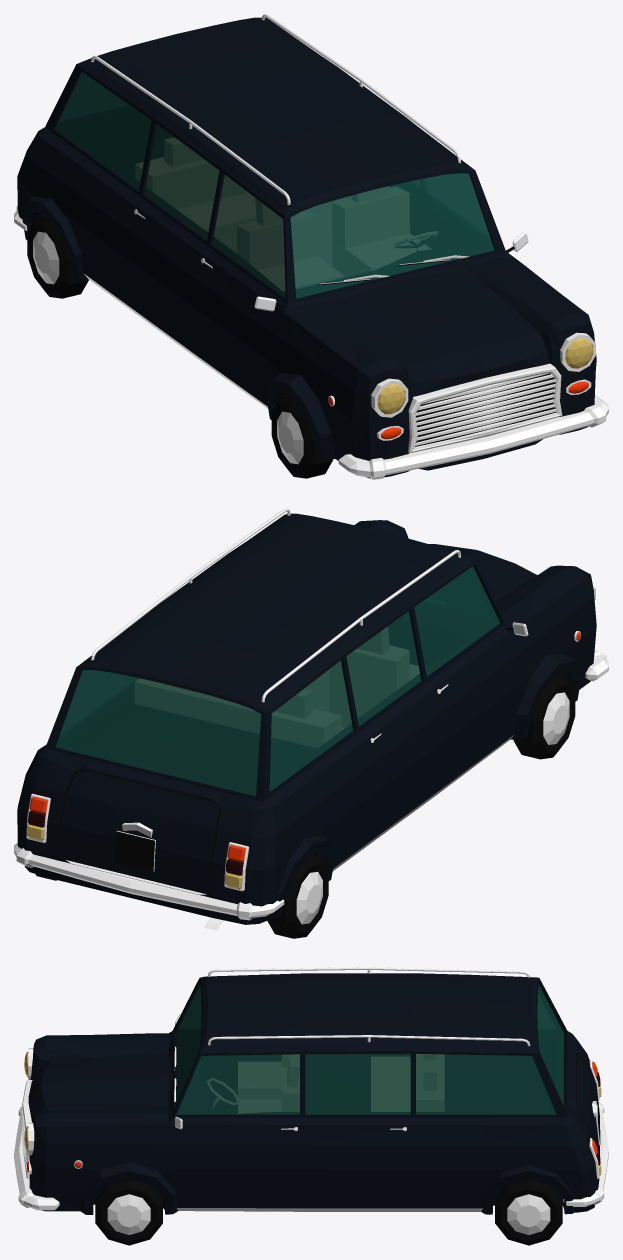
Rendered from StationWagon_02.FBX.
3 renders of one model, top to bottom at view 1: azimuth 30°, elevation 25°; view 2: azimuth 150°, elevation 25°; view 3: azimuth 270°, elevation 25°, orthographic. The views are drawn at different scales.
Parts seen in each view (by area): view 1: StationWagon_02, interior, grill, bumper_f, wheel_f_r, wheel_b_r, lights, headLights; view 2: StationWagon_02, interior, bumper_b, wheel_f_r, wheel_b_r, licensePlate, lights; view 3: StationWagon_02, interior, wheel_b_l, wheel_f_l, bumper_f, bumper_b, lights, grill.
Part boxes in pixels (x1=…): StationWagon_02: x1=17, y1=14, x2=596, y2=478; interior: x1=55, y1=72, x2=494, y2=298; grill: x1=408, y1=363, x2=562, y2=453; bumper_f: x1=338, y1=395, x2=608, y2=479; wheel_f_r: x1=271, y1=394, x2=333, y2=478; wheel_b_r: x1=27, y1=214, x2=88, y2=298; lights: x1=328, y1=332, x2=595, y2=440; headLights: x1=377, y1=338, x2=593, y2=414; StationWagon_02: x1=17, y1=508, x2=596, y2=924; interior: x1=55, y1=566, x2=499, y2=795; bumper_b: x1=14, y1=843, x2=284, y2=920; wheel_f_r: x1=513, y1=675, x2=575, y2=759; wheel_b_r: x1=267, y1=854, x2=328, y2=938; licensePlate: x1=115, y1=830, x2=155, y2=872; lights: x1=26, y1=581, x2=595, y2=891; StationWagon_02: x1=28, y1=967, x2=599, y2=1214; interior: x1=176, y1=986, x2=563, y2=1114; wheel_b_l: x1=495, y1=1179, x2=562, y2=1245; wheel_f_l: x1=95, y1=1180, x2=162, y2=1245; bumper_f: x1=14, y1=1106, x2=59, y2=1210; bumper_b: x1=563, y1=1102, x2=608, y2=1206; lights: x1=28, y1=1048, x2=599, y2=1178; grill: x1=22, y1=1080, x2=32, y2=1178.
Size of the model in its own units: 19.97 by 16.53 by 46.11.
